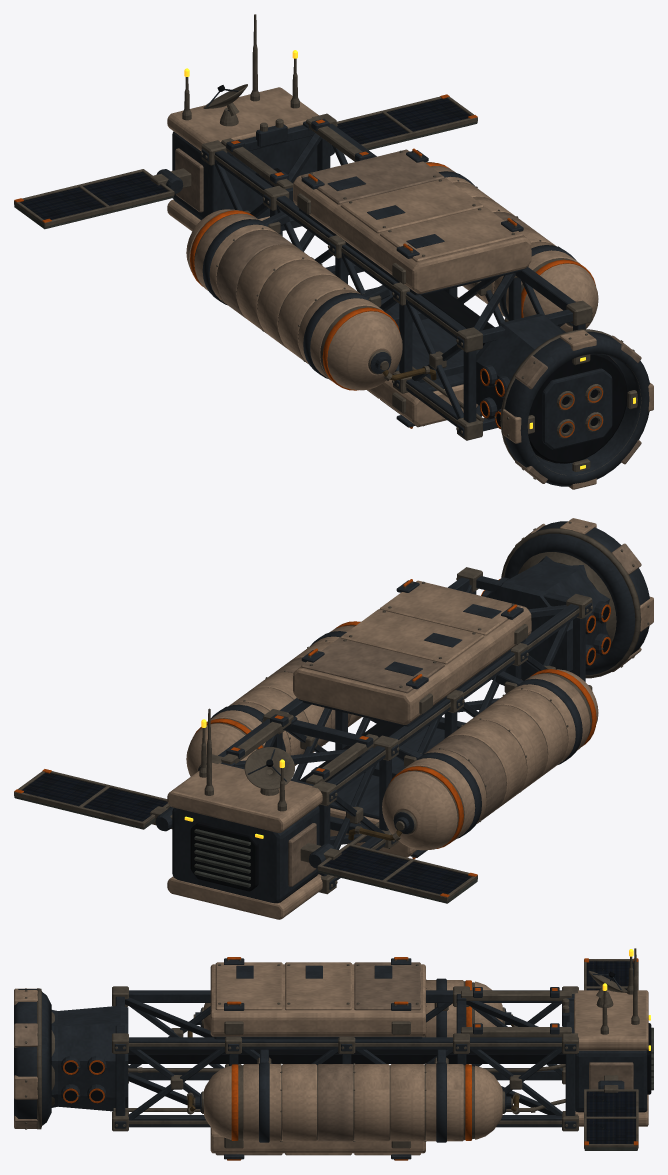
The model's file is base-depot.glb.
The picture shows the model from 3 angles, top to bottom: view 1: azimuth 30°, elevation 25°; view 2: azimuth 150°, elevation 25°; view 3: azimuth 270°, elevation 25°; orthographic projection. The views are drawn at different scales.
Visible parts, largest first — view 1: Depot ceramic and hardware trim 0, Silica coverglass and photovoltaic cells 0; view 2: Depot ceramic and hardware trim 0, Silica coverglass and photovoltaic cells 0; view 3: Depot ceramic and hardware trim 0, Silica coverglass and photovoltaic cells 0.
Boxes of the visible parts, bbox=[...] form: Depot ceramic and hardware trim 0: bbox=[14, 14, 653, 489]; Silica coverglass and photovoltaic cells 0: bbox=[20, 98, 470, 219]; Depot ceramic and hardware trim 0: bbox=[14, 518, 653, 919]; Silica coverglass and photovoltaic cells 0: bbox=[22, 772, 471, 894]; Depot ceramic and hardware trim 0: bbox=[14, 948, 653, 1160]; Silica coverglass and photovoltaic cells 0: bbox=[586, 961, 635, 1143].
Bounding box in the file's own units: 26.5 × 13.21 × 38.47.
Materials: 4 (2 with a texture image).
